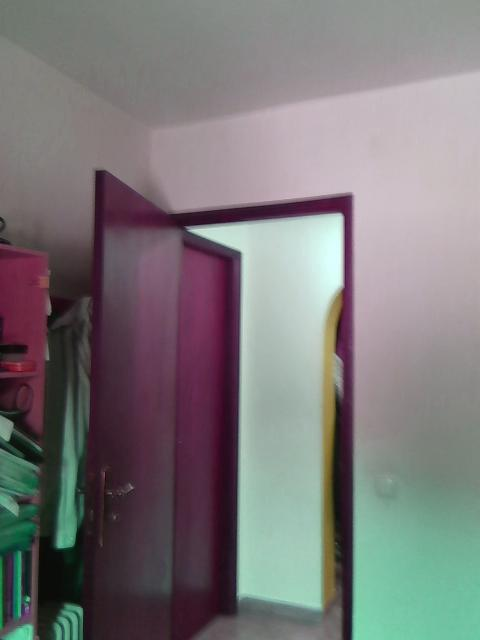open_door: (144, 191, 354, 638)
